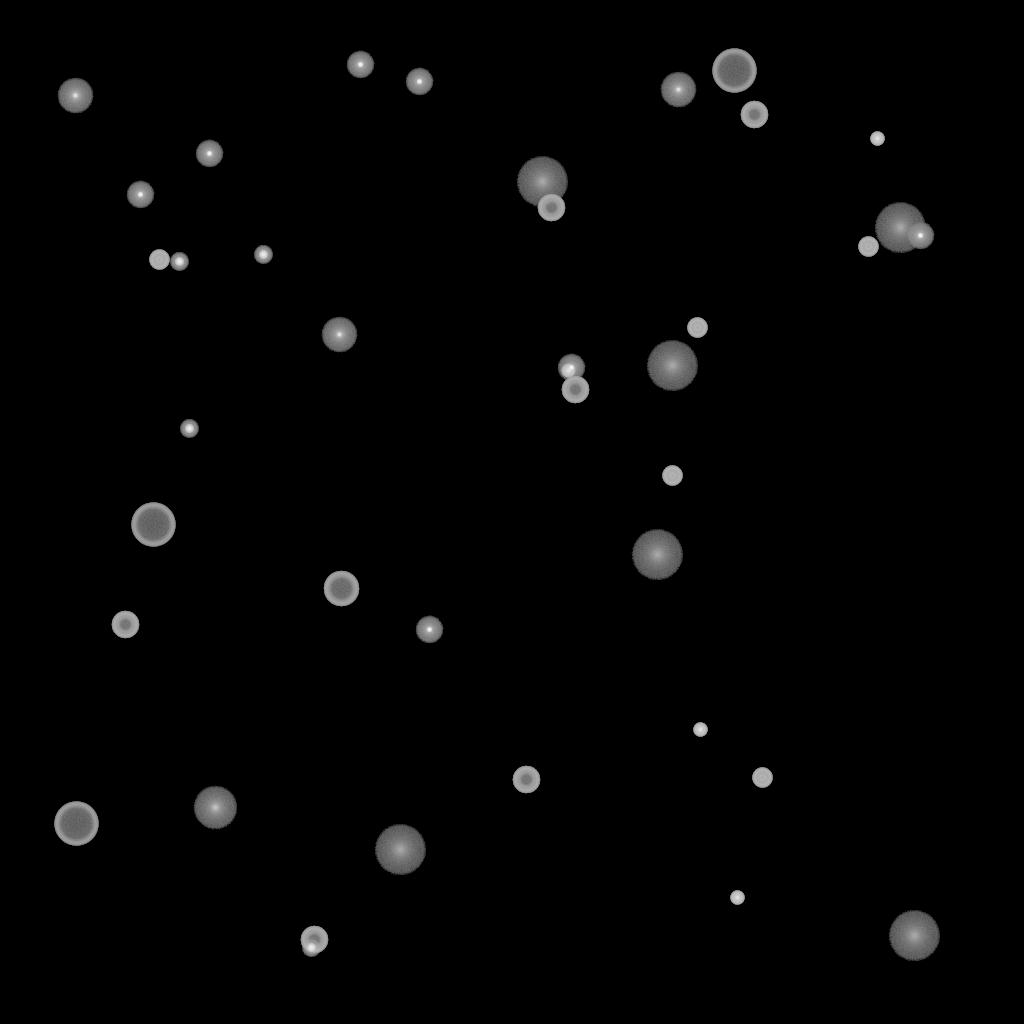depth:-10: (906, 222, 934, 250), (195, 140, 223, 168), (405, 68, 433, 96), (557, 354, 585, 382), (126, 181, 154, 209), (415, 616, 443, 644), (346, 51, 374, 79)
depth:-20: (170, 253, 188, 271), (180, 420, 198, 438), (302, 939, 320, 957), (254, 246, 272, 264)
depth:-30: (561, 364, 575, 378), (870, 132, 884, 146), (693, 723, 707, 737), (730, 891, 744, 905)
depth:-40: (662, 466, 682, 486), (858, 237, 878, 257), (149, 250, 169, 270), (687, 318, 707, 338), (752, 768, 772, 788)
depth:-50: (300, 926, 328, 954), (561, 376, 589, 404), (512, 766, 540, 794), (740, 101, 768, 129), (537, 194, 565, 222), (111, 611, 139, 639)
depth:-60: (323, 571, 359, 607)
depth:-70: (54, 802, 98, 846), (712, 49, 756, 93), (131, 503, 175, 547)
depth:0: (57, 78, 93, 114), (321, 317, 357, 353), (660, 72, 696, 108)
depth:10: (193, 786, 237, 830)
depth:20: (374, 825, 426, 875), (888, 911, 940, 961), (646, 341, 698, 391), (516, 157, 568, 207), (874, 203, 926, 253), (631, 530, 683, 580)
